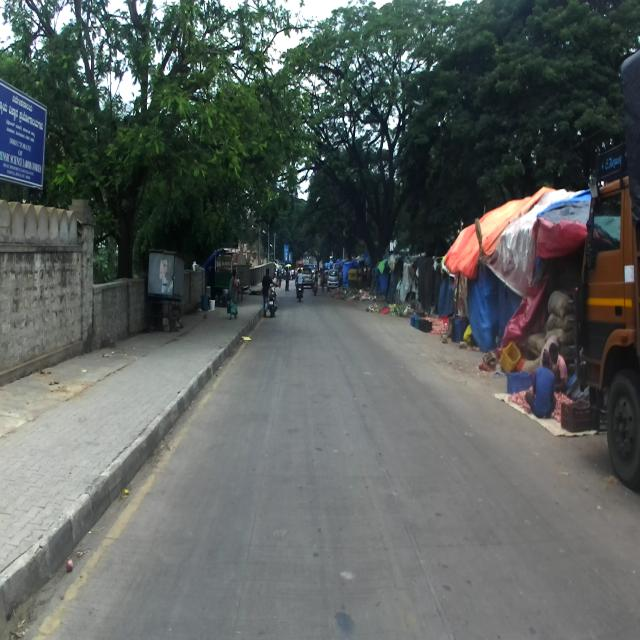truck ahead at: (576, 174, 640, 481)
